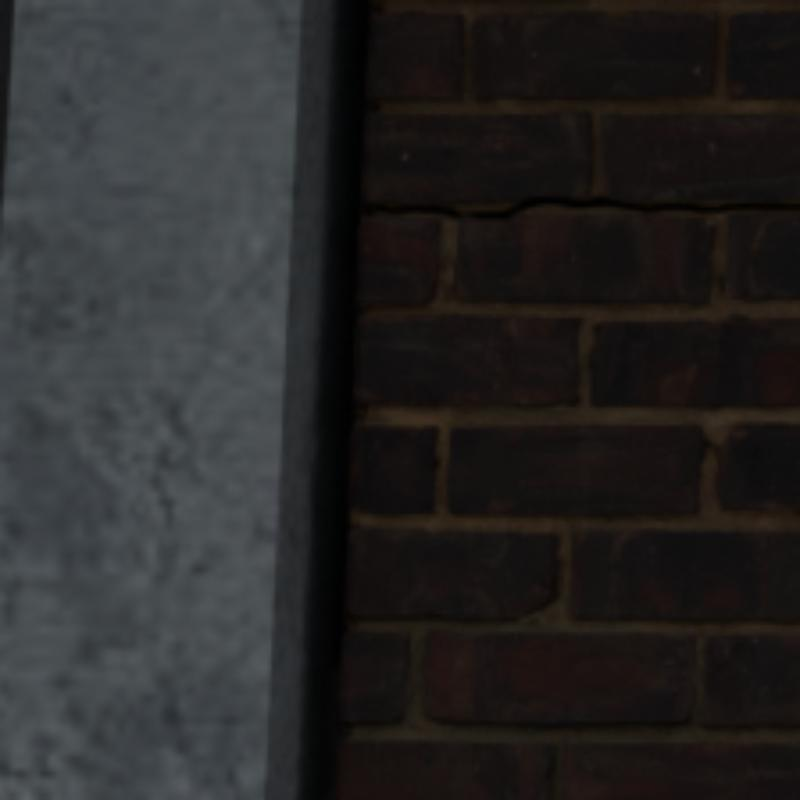pothole: (374, 198, 796, 219), (700, 439, 721, 454)
